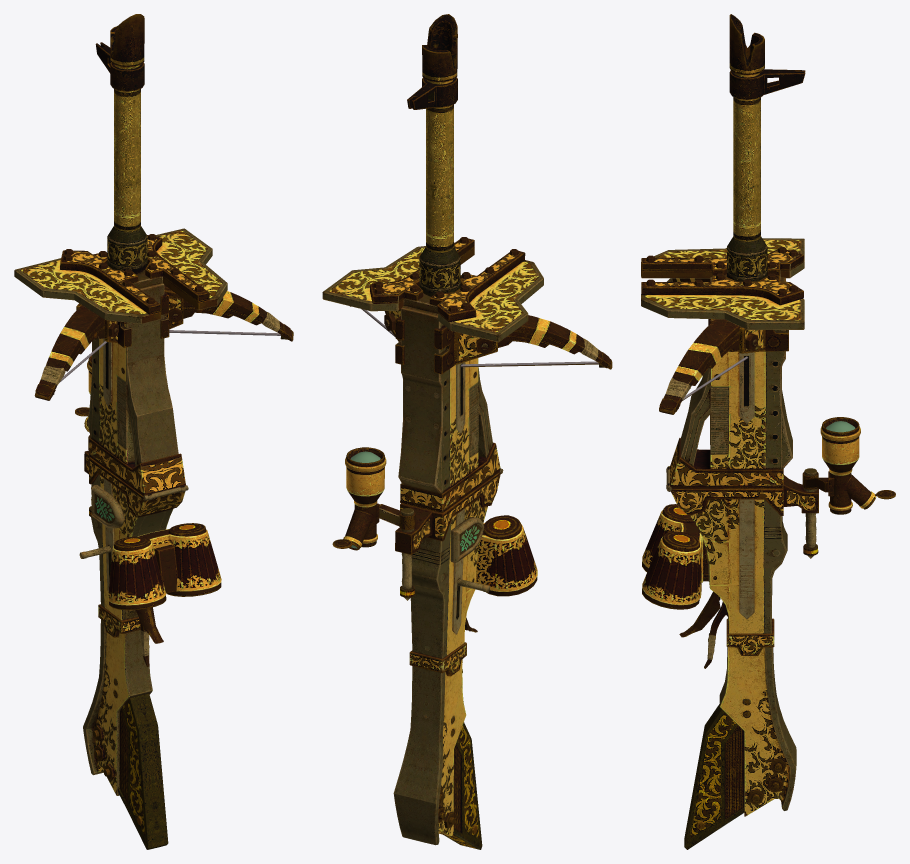
Rendered from bs_hbg003.obj.
The picture shows the model from 3 angles, left to right: view 1: azimuth 30°, elevation 25°; view 2: azimuth 150°, elevation 25°; view 3: azimuth 270°, elevation 25°; orthographic projection. The views are drawn at different scales.
Visible parts, largest first — view 1: bs_hbg003_000_LOD_1, bs_hbg003_001_LOD_1, bs_hbg003_006_LOD_1, bs_hbg003_005_LOD_1, bs_hbg003_009_LOD_1, bs_hbg003_004_LOD_1, bs_hbg003_003_LOD_1, bs_hbg003_008_LOD_1, bs_hbg003_002_LOD_1; view 2: bs_hbg003_000_LOD_1, bs_hbg003_001_LOD_1, bs_hbg003_006_LOD_1, bs_hbg003_005_LOD_1, bs_hbg003_007_LOD_1, bs_hbg003_009_LOD_1, bs_hbg003_004_LOD_1, bs_hbg003_002_LOD_1; view 3: bs_hbg003_000_LOD_1, bs_hbg003_001_LOD_1, bs_hbg003_006_LOD_1, bs_hbg003_005_LOD_1, bs_hbg003_009_LOD_1, bs_hbg003_007_LOD_1, bs_hbg003_003_LOD_1.
Part boxes in pixels (bbox=[...]): bs_hbg003_000_LOD_1: bbox=[79, 450, 184, 849]; bs_hbg003_001_LOD_1: bbox=[76, 270, 188, 500]; bs_hbg003_006_LOD_1: bbox=[14, 228, 227, 323]; bs_hbg003_005_LOD_1: bbox=[95, 14, 147, 273]; bs_hbg003_009_LOD_1: bbox=[108, 523, 221, 610]; bs_hbg003_004_LOD_1: bbox=[34, 305, 104, 400]; bs_hbg003_003_LOD_1: bbox=[164, 285, 293, 341]; bs_hbg003_008_LOD_1: bbox=[153, 542, 177, 593]; bs_hbg003_002_LOD_1: bbox=[59, 330, 280, 382]; bs_hbg003_000_LOD_1: bbox=[393, 472, 500, 849]; bs_hbg003_001_LOD_1: bbox=[384, 293, 503, 513]; bs_hbg003_006_LOD_1: bbox=[322, 237, 543, 342]; bs_hbg003_005_LOD_1: bbox=[407, 14, 460, 295]; bs_hbg003_007_LOD_1: bbox=[332, 447, 415, 550]; bs_hbg003_009_LOD_1: bbox=[475, 515, 537, 596]; bs_hbg003_004_LOD_1: bbox=[498, 315, 612, 369]; bs_hbg003_002_LOD_1: bbox=[361, 309, 598, 367]; bs_hbg003_000_LOD_1: bbox=[671, 474, 818, 849]; bs_hbg003_001_LOD_1: bbox=[666, 270, 792, 491]; bs_hbg003_006_LOD_1: bbox=[641, 238, 804, 329]; bs_hbg003_005_LOD_1: bbox=[727, 14, 805, 281]; bs_hbg003_009_LOD_1: bbox=[642, 504, 701, 609]; bs_hbg003_007_LOD_1: bbox=[802, 417, 895, 514]; bs_hbg003_003_LOD_1: bbox=[659, 319, 740, 414].
Size of the model in its own units: 78.46 by 237 by 65.9.
